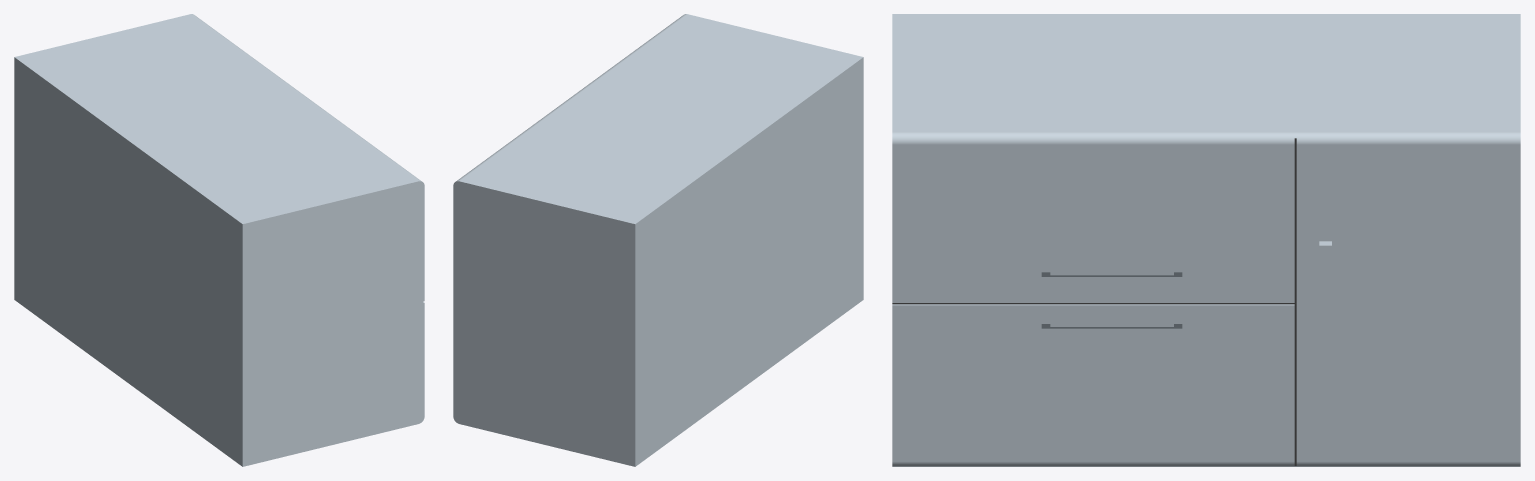
File: refrigerator_0515.obj
The picture shows the model from 3 angles, left to right: view 1: azimuth 30°, elevation 25°; view 2: azimuth 150°, elevation 25°; view 3: azimuth 270°, elevation 25°; orthographic projection. The views are drawn at different scales.
Parts seen in each view (by area): view 1: mesh1, mesh8, mesh0, mesh4; view 2: mesh1, mesh3, mesh0, mesh4; view 3: mesh0, mesh13, mesh22, mesh31, mesh4, mesh9, mesh10, mesh16, mesh34, mesh25, mesh11.
Part boxes in pixels (x1,y1,x2,y2): mesh1: (14,57,242,466); mesh8: (242,181,424,466); mesh0: (14,14,417,223); mesh4: (190,14,421,181); mesh1: (635,57,863,466); mesh3: (453,181,635,466); mesh0: (460,14,863,223); mesh4: (456,14,687,181); mesh0: (892,14,1520,131); mesh13: (1296,144,1520,461); mesh22: (892,144,1294,302); mesh31: (892,305,1294,461); mesh4: (892,132,1520,144); mesh9: (892,461,1520,466); mesh10: (892,138,1296,465); mesh16: (1319,245,1331,375); mesh34: (1041,328,1182,338); mesh25: (1041,277,1182,286); mesh11: (892,304,1294,305).
Size of the model in its own units: 0.0356 by 0.0437 by 0.0745.
